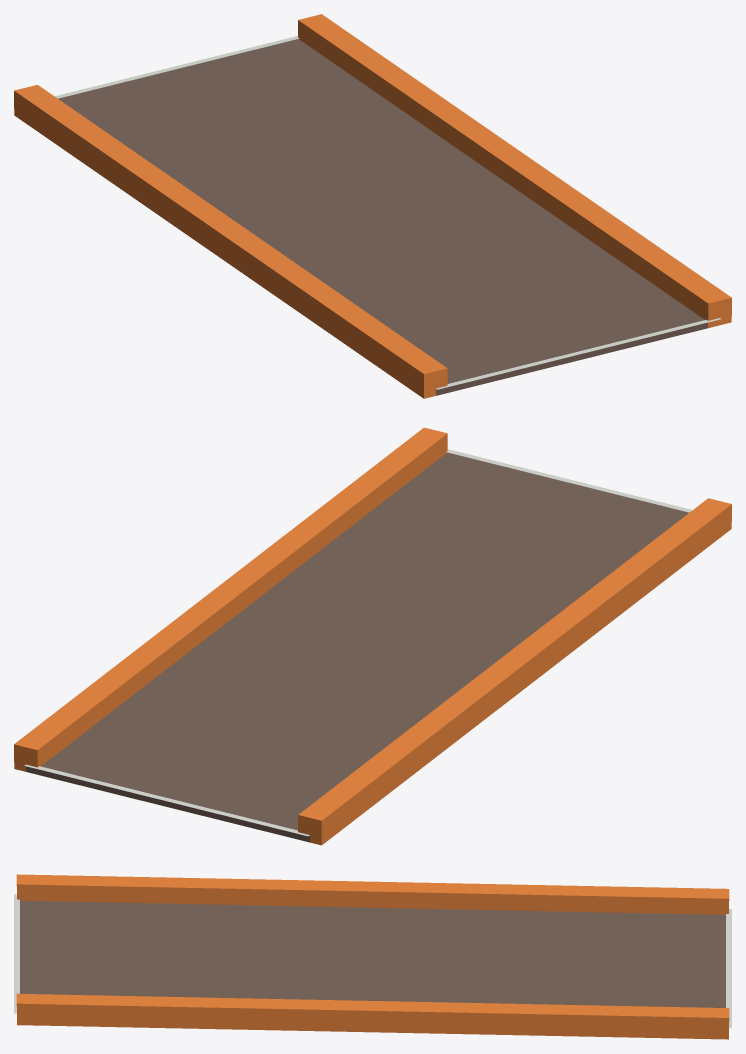
File: SM_MP_Film_A_2_0.fbx
The picture shows the model from 3 angles, top to bottom: view 1: azimuth 30°, elevation 25°; view 2: azimuth 150°, elevation 25°; view 3: azimuth 270°, elevation 25°; orthographic projection. The views are drawn at different scales.
Parts seen in each view (by area): view 1: SM_MP_Film_A_2_0; view 2: SM_MP_Film_A_2_0; view 3: SM_MP_Film_A_2_0.
Part boxes in pixels (x1,y1,x2,y2): SM_MP_Film_A_2_0: [14, 14, 731, 398]; SM_MP_Film_A_2_0: [14, 427, 731, 845]; SM_MP_Film_A_2_0: [14, 874, 731, 1039].
Size of what is drawn, in the model's own units: 260 by 605 by 34.55.
